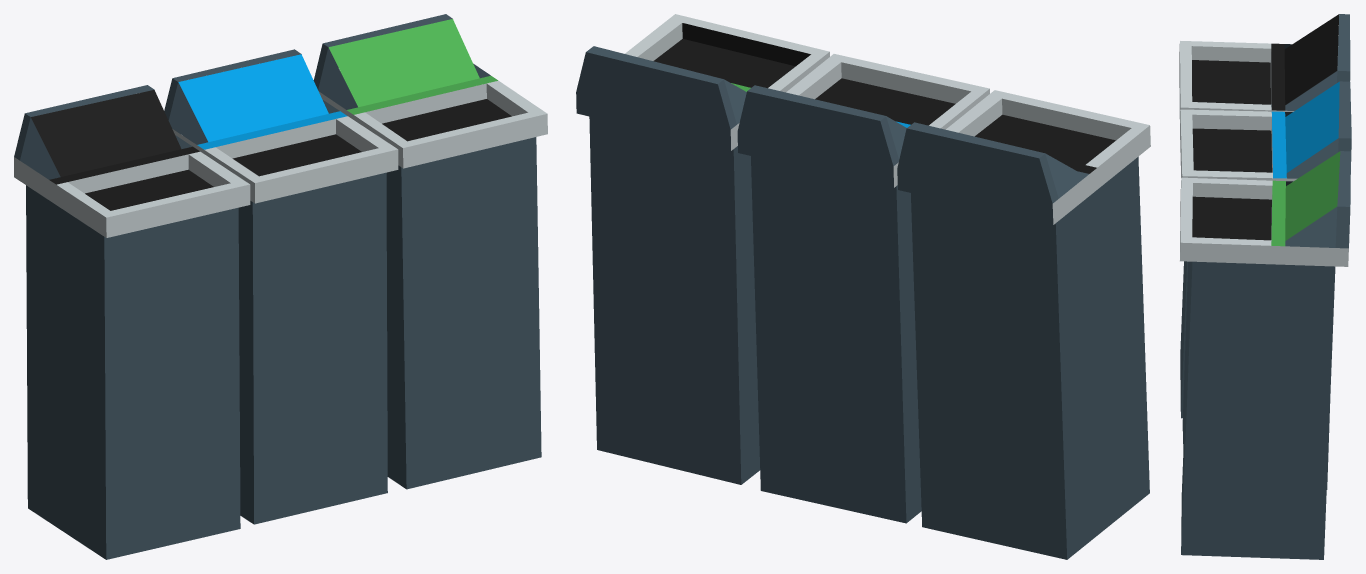
File: RecycleBins.glb
3 views of the same model, side by side, from view 1: azimuth 30°, elevation 25°; view 2: azimuth 150°, elevation 25°; view 3: azimuth 270°, elevation 25° (orthographic). The views are drawn at different scales.
Visible parts, largest first — view 1: RecylingBins; view 2: RecylingBins; view 3: RecylingBins.
Boxes of the visible parts, x1,y1,x2,y2 form: RecylingBins: (14, 14, 547, 559); RecylingBins: (576, 14, 1150, 559); RecylingBins: (1179, 14, 1351, 559).
Size of the model in its own units: 1.16 by 0.9666 by 0.426.
